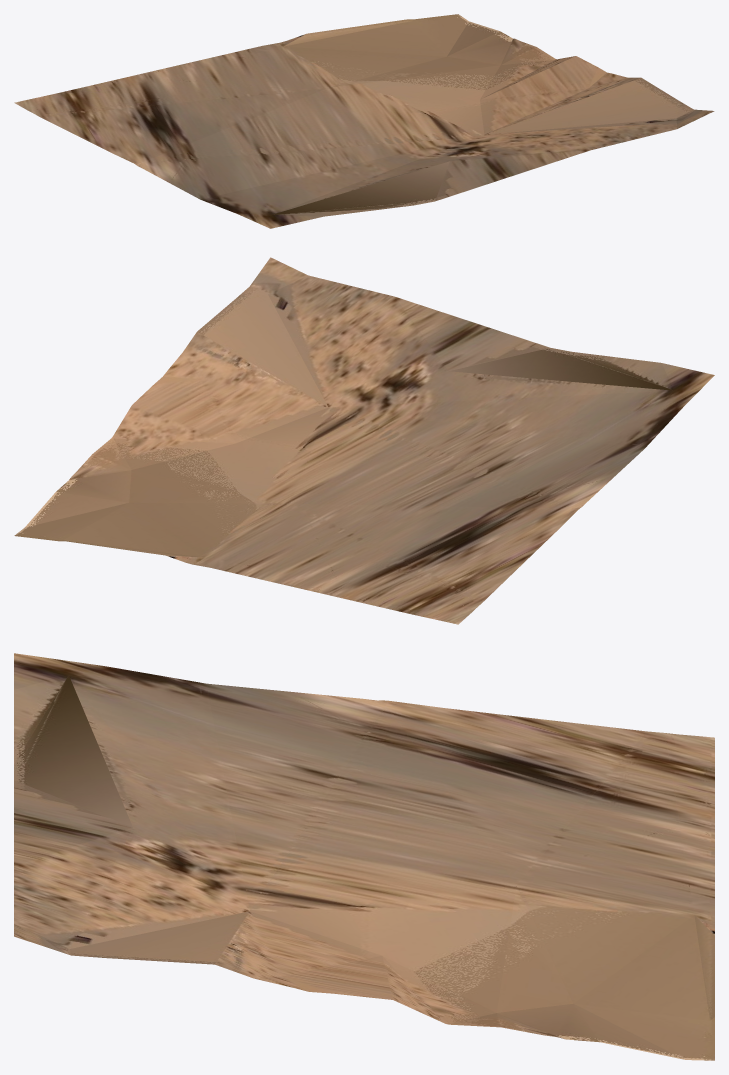
The picture shows the model from 3 angles, top to bottom: view 1: azimuth 30°, elevation 25°; view 2: azimuth 150°, elevation 25°; view 3: azimuth 270°, elevation 25°; orthographic projection. The views are drawn at different scales.
Bounding box in the file's own units: 2.09 × 0.4085 × 2.09.
3 materials, 3 textured.
